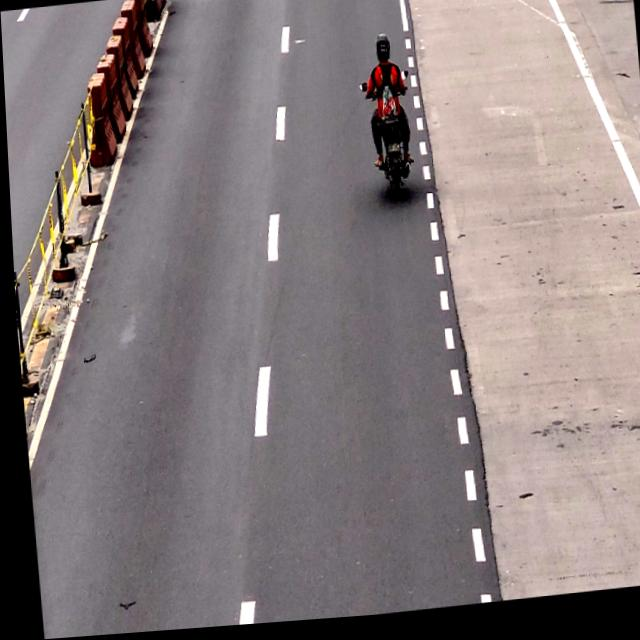Motorcycle: (364, 38, 414, 216)
